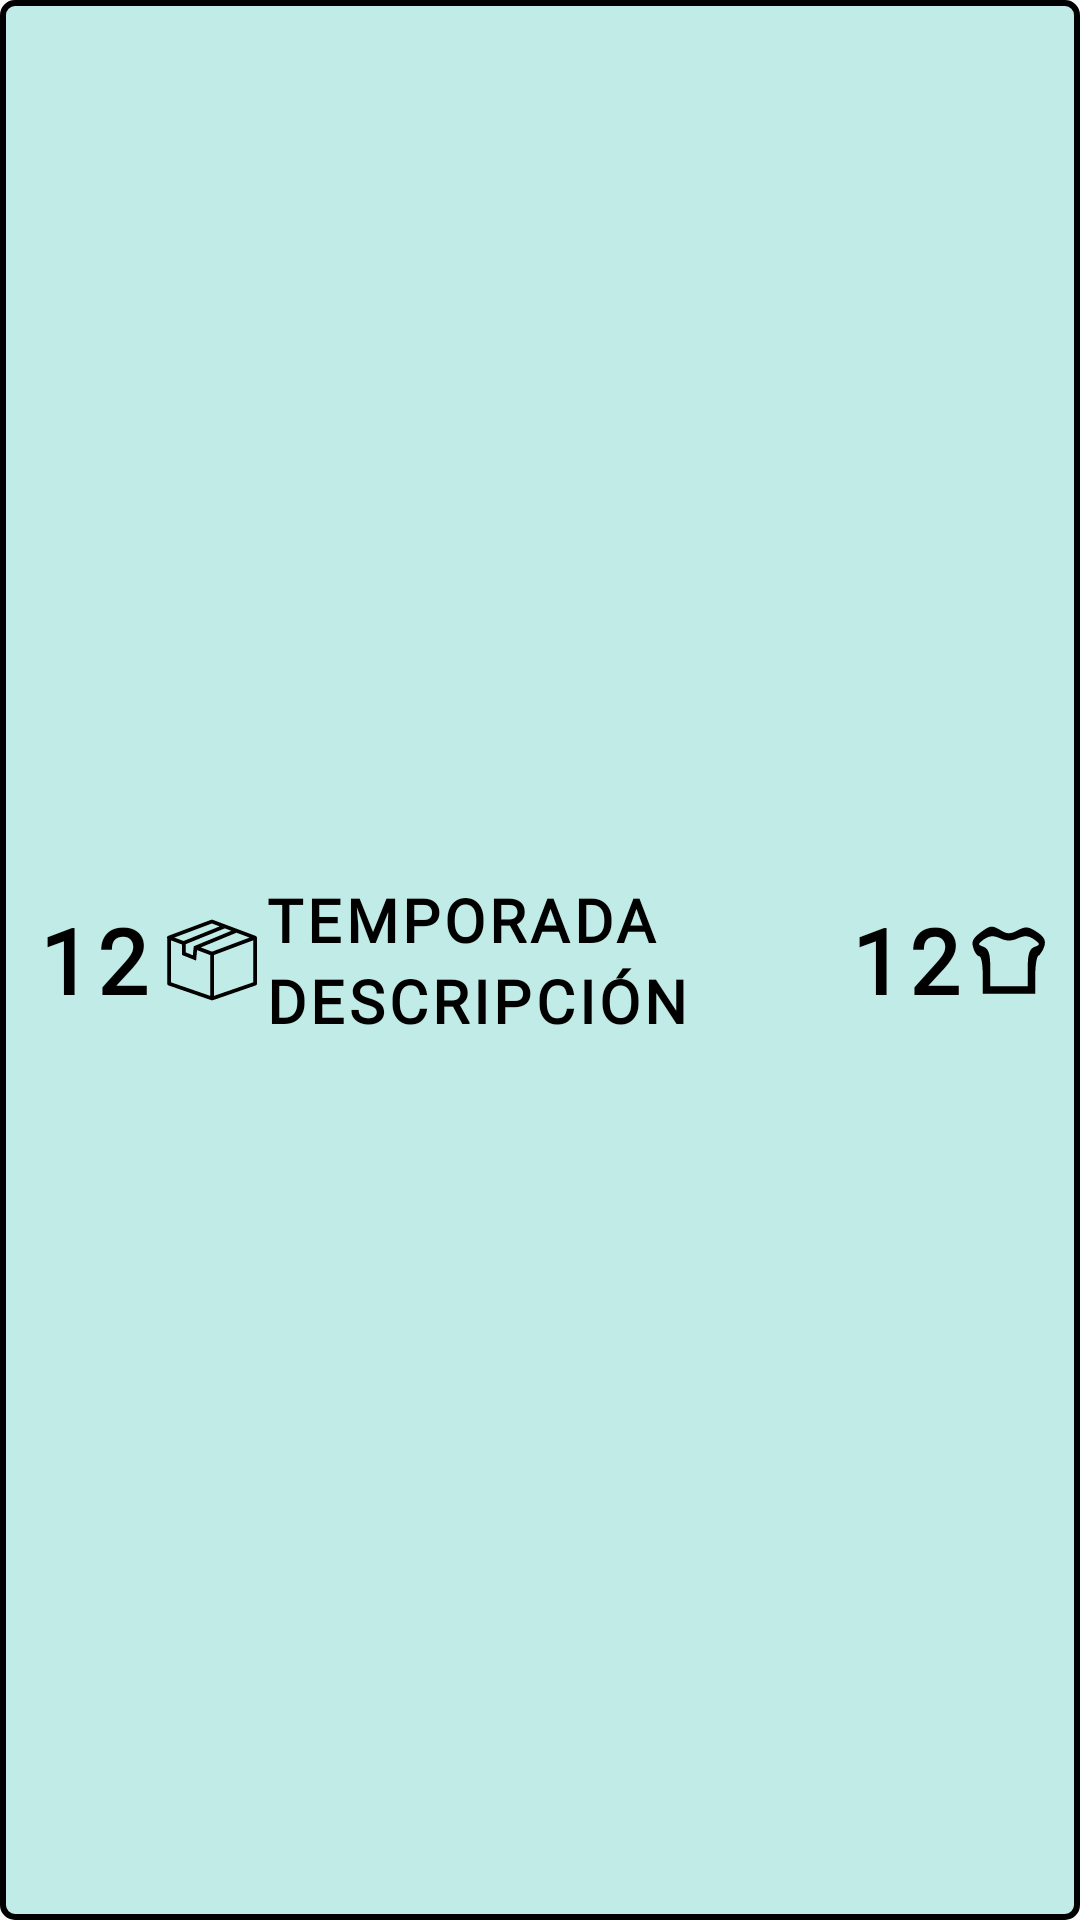

Locate icon controls on the screen. Image size 1080 × 1920, boxes as (x1, y1, x2, y2).
caja: (167, 919, 257, 1001)
